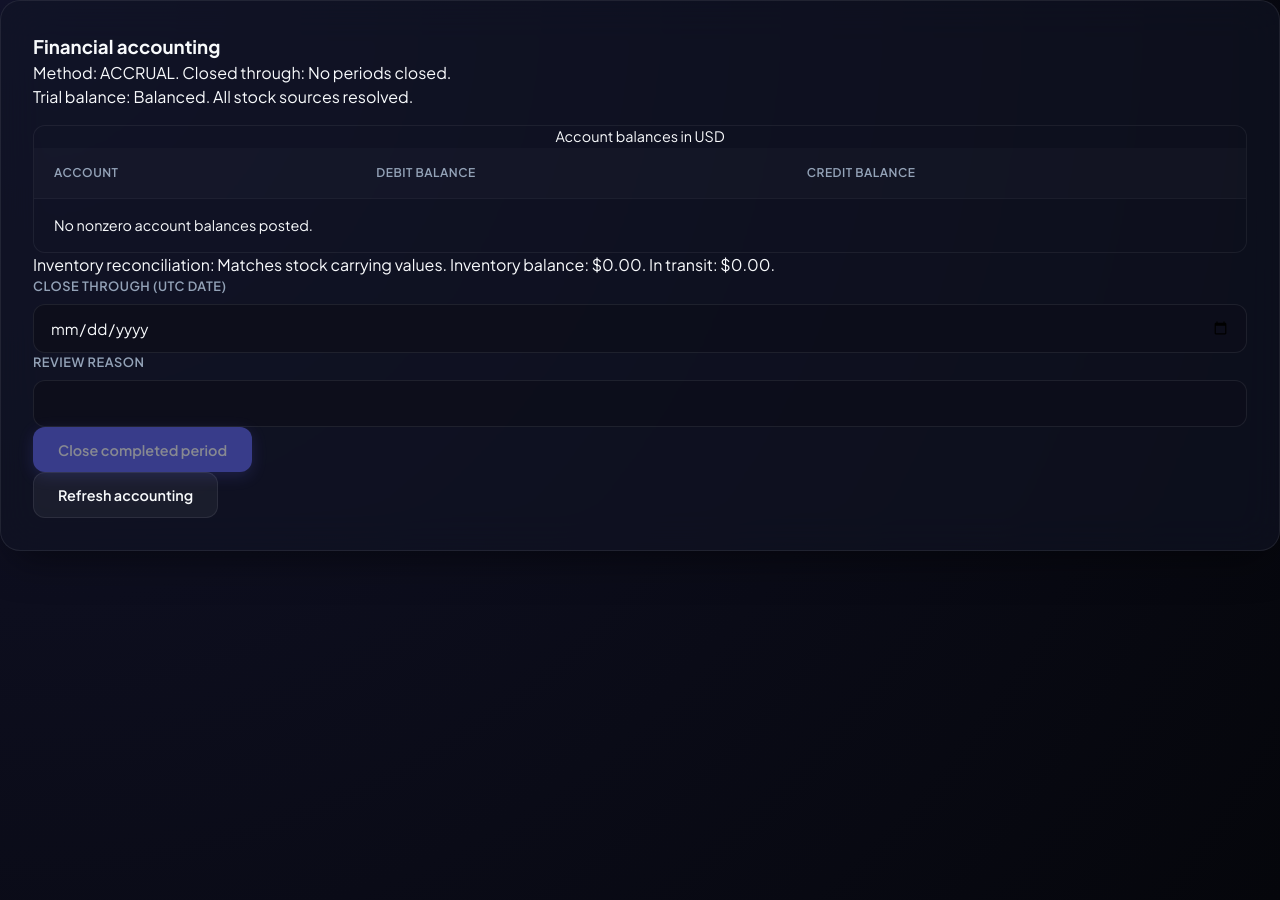
Scenario: Python financial accounting panel › handles error during period close
In the date field labelled "Close through (UTC date)": (640, 329) [33, 304, 1247, 353], type "2026-03-31"
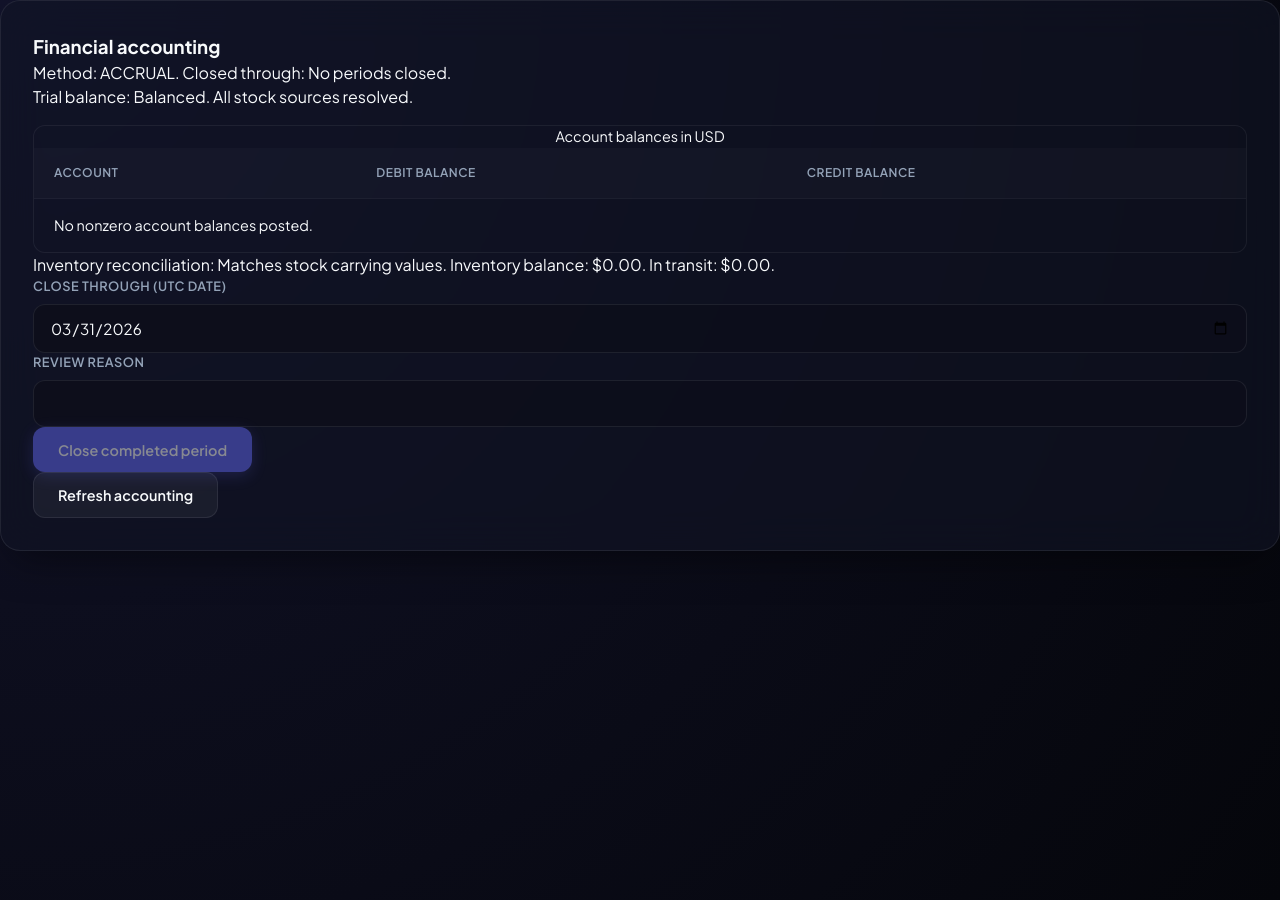
In the field labelled "Review reason": (640, 404) [33, 380, 1247, 427], type "Quarterly close"
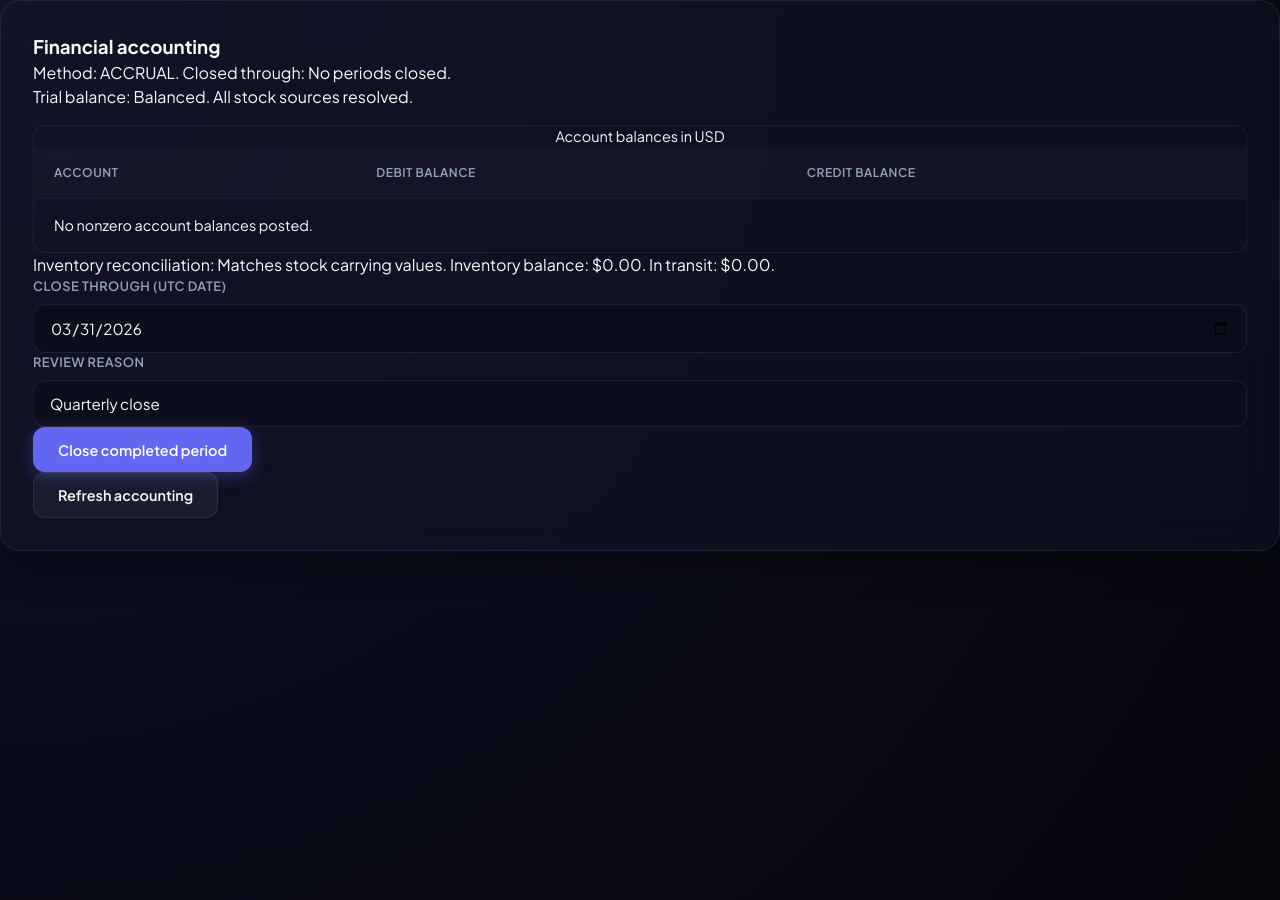
Click the button "Close completed period": (143, 450) [33, 427, 252, 472]
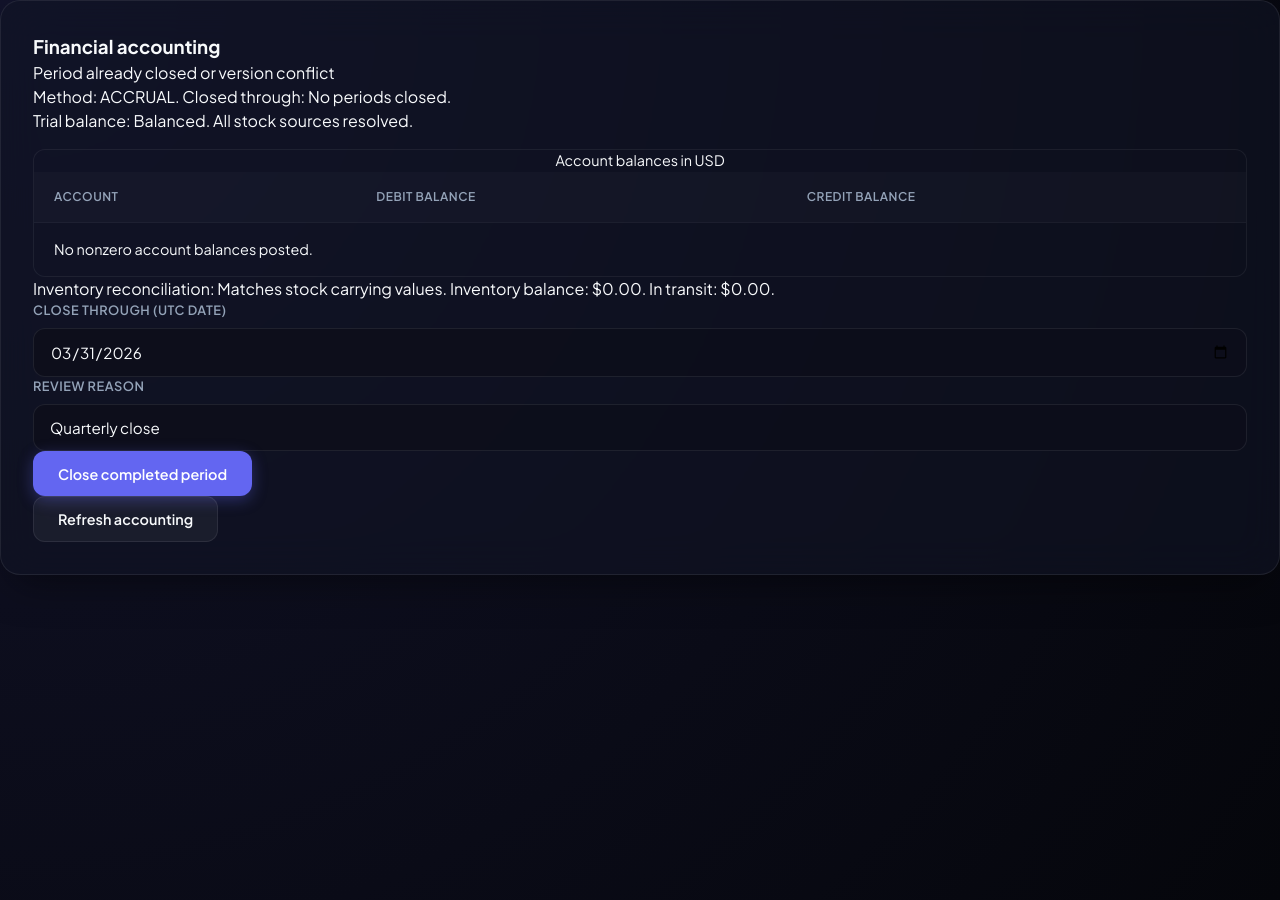
Expected: the button "Close completed period" is enabled, [33, 451, 252, 496]
Expected: the message reads "Period already closed or version conflict", [33, 62, 335, 83]
